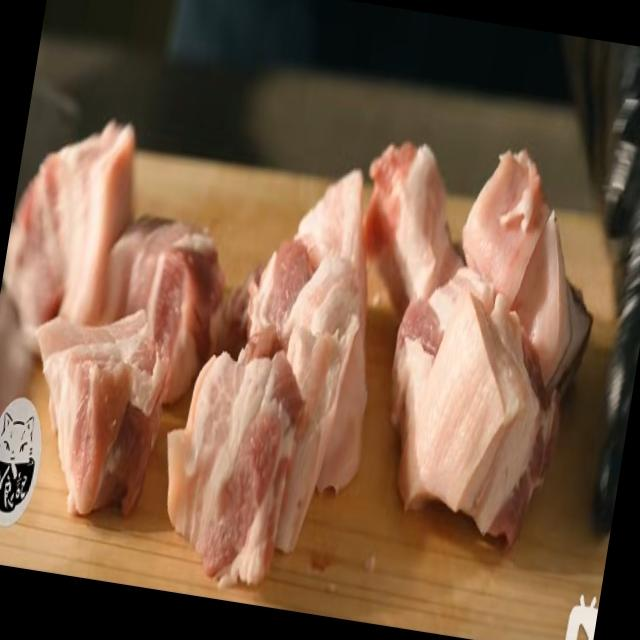pork: (197, 138, 407, 576), (375, 263, 577, 579), (444, 115, 618, 382), (334, 100, 487, 325), (167, 355, 304, 586), (6, 129, 134, 355), (38, 307, 165, 516), (102, 216, 226, 408)
